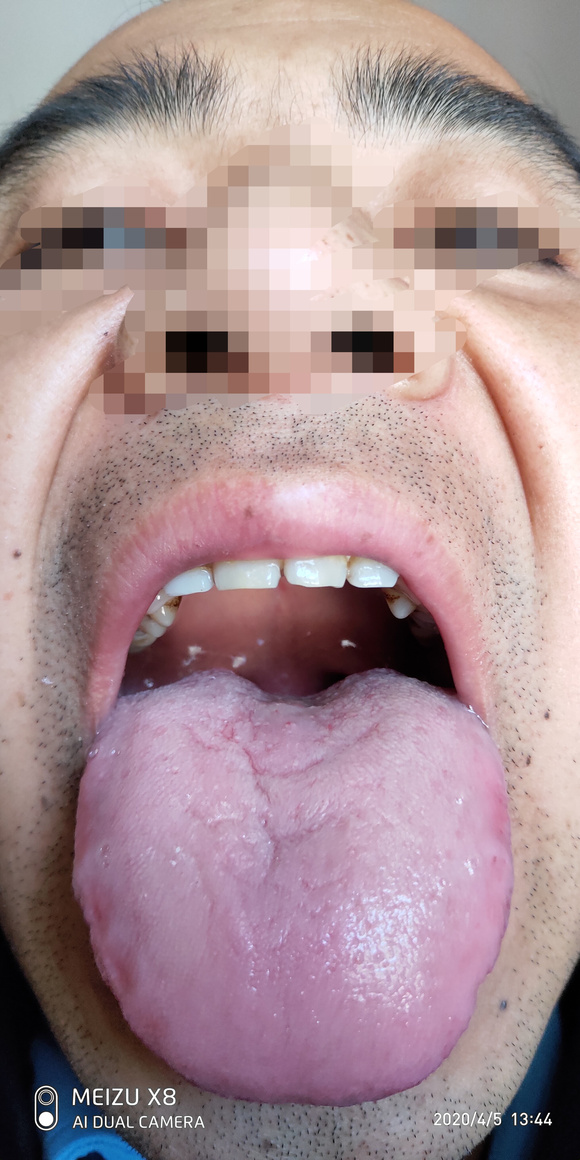baitaishe: (71, 668, 514, 1106)
chihenshe: (72, 861, 163, 1047)
liewenshe: (220, 709, 328, 881)
pangdashe: (70, 667, 513, 1105)
shenquao: (213, 669, 384, 720)
